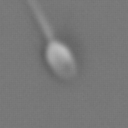normal: (25, 1, 55, 40)
